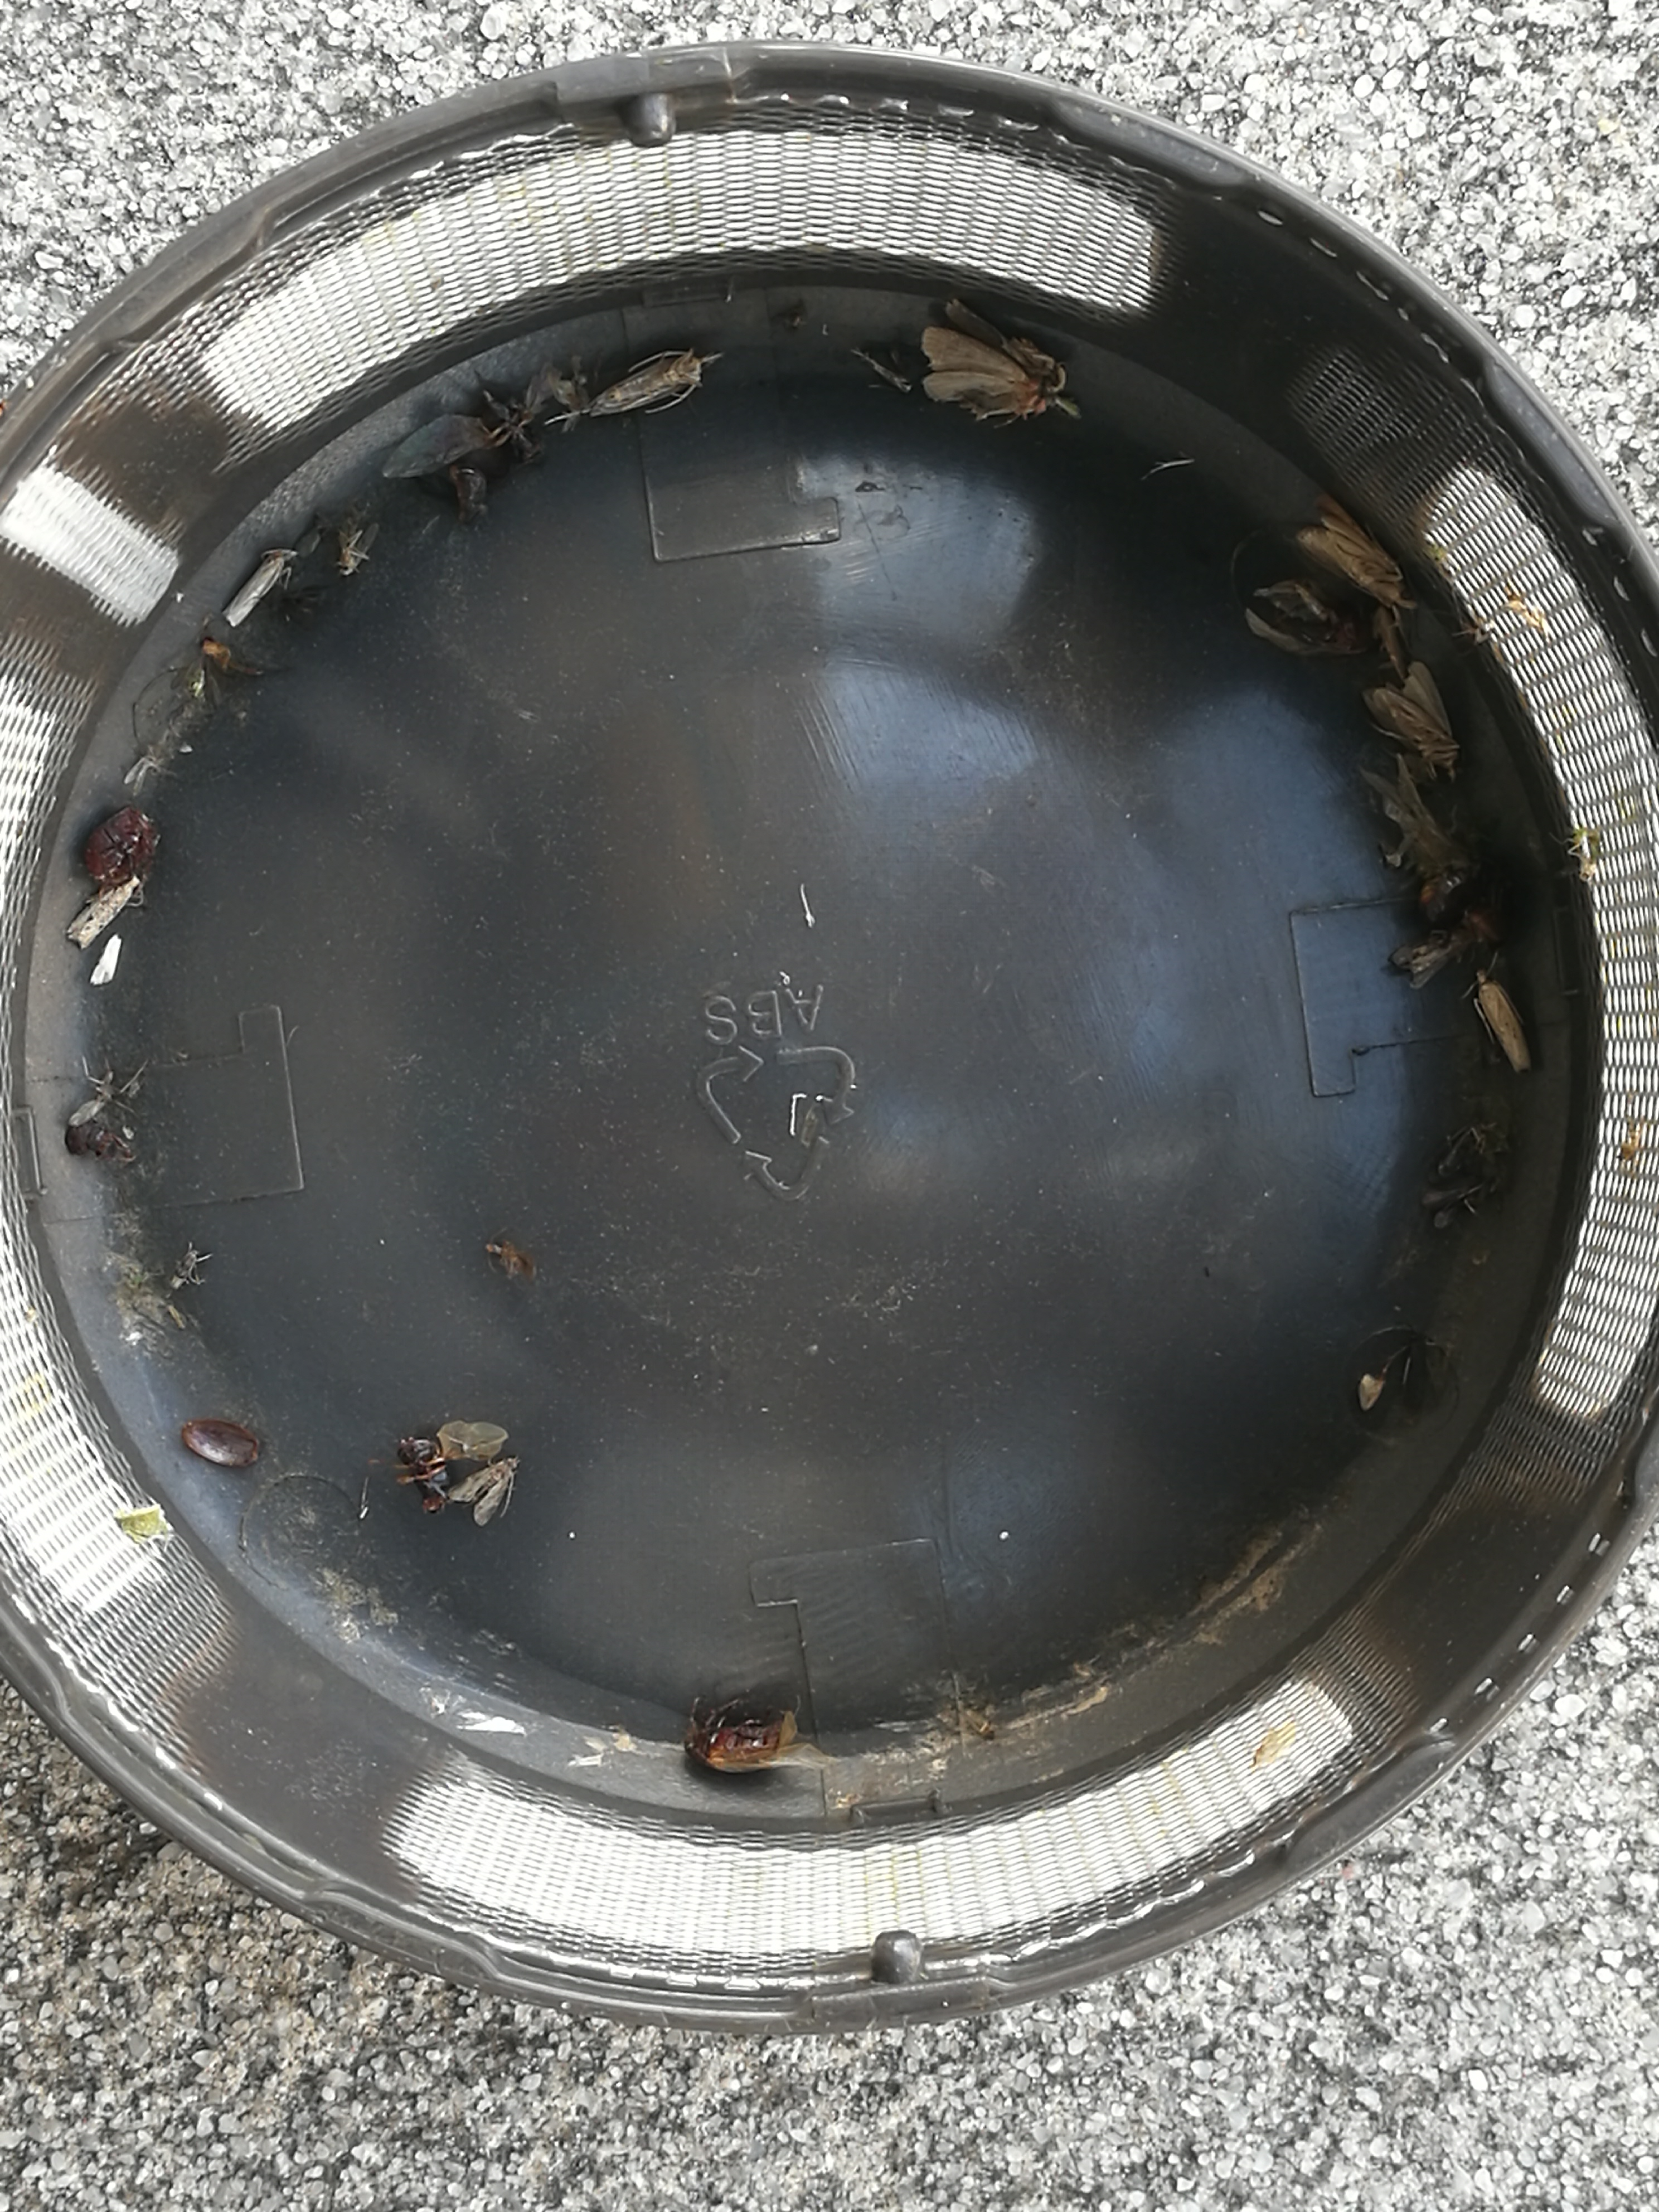beetle: (687, 1712, 793, 1771), (84, 806, 159, 887), (397, 1439, 448, 1514)
mosquito: (589, 352, 706, 415), (66, 874, 139, 949), (1474, 972, 1530, 1068), (221, 549, 288, 627), (1373, 610, 1410, 681)
moth: (920, 301, 1065, 415), (1297, 495, 1413, 611), (1361, 658, 1457, 766), (448, 1456, 519, 1526), (340, 523, 380, 573)
